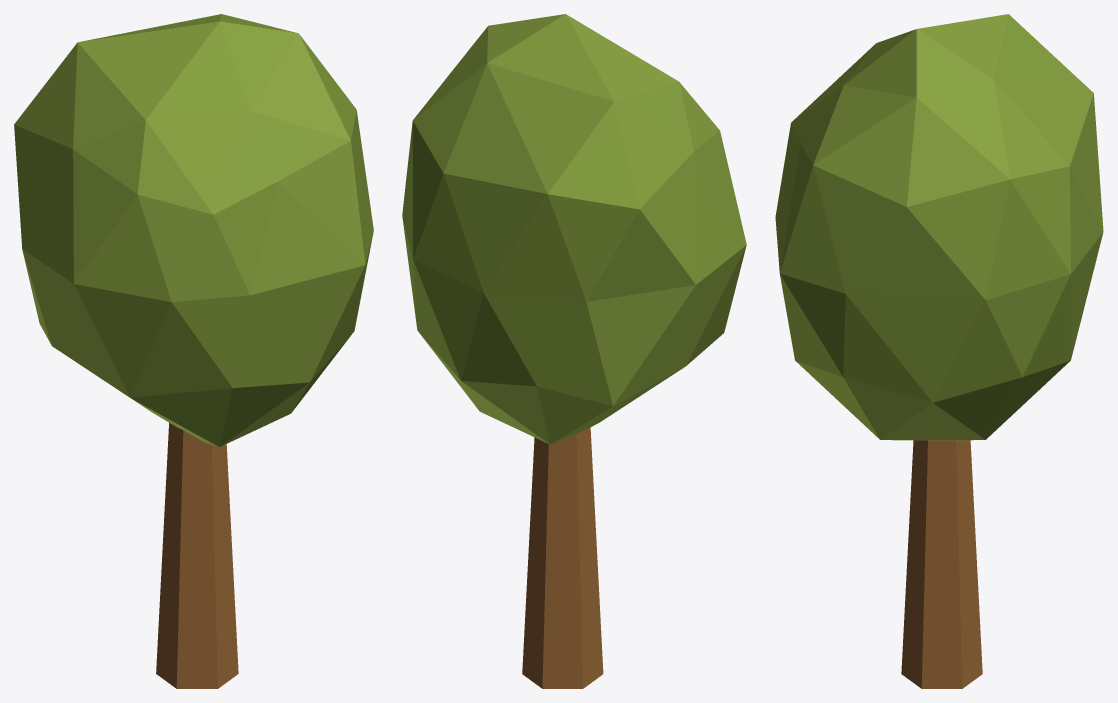
The model's file is treeA.FBX.
The picture shows the model from 3 angles, left to right: view 1: azimuth 30°, elevation 25°; view 2: azimuth 150°, elevation 25°; view 3: azimuth 270°, elevation 25°; orthographic projection.
Visible parts, largest first — view 1: treeA; view 2: treeA; view 3: treeA.
Boxes of the visible parts, left/top/right/bottom form: treeA: left=14, top=14, right=373, bottom=688; treeA: left=402, top=14, right=746, bottom=688; treeA: left=775, top=14, right=1103, bottom=688.
Bounding box in the file's own units: 3.27 × 6.94 × 3.17.
